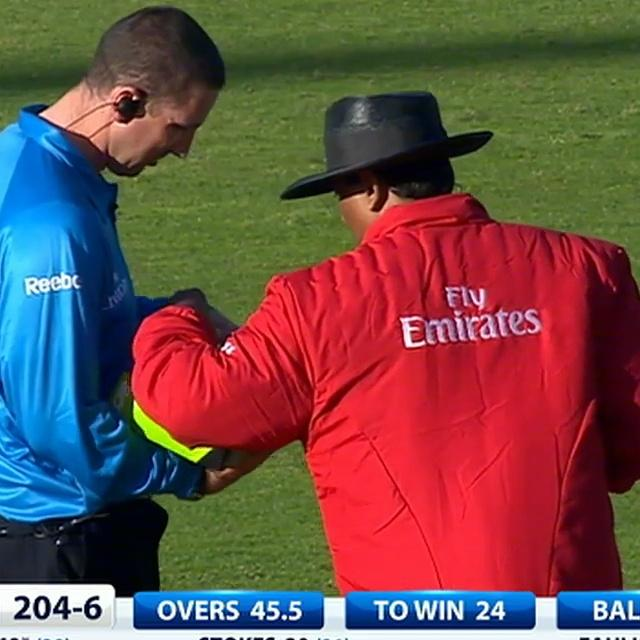umpire: (0, 47, 640, 596)
